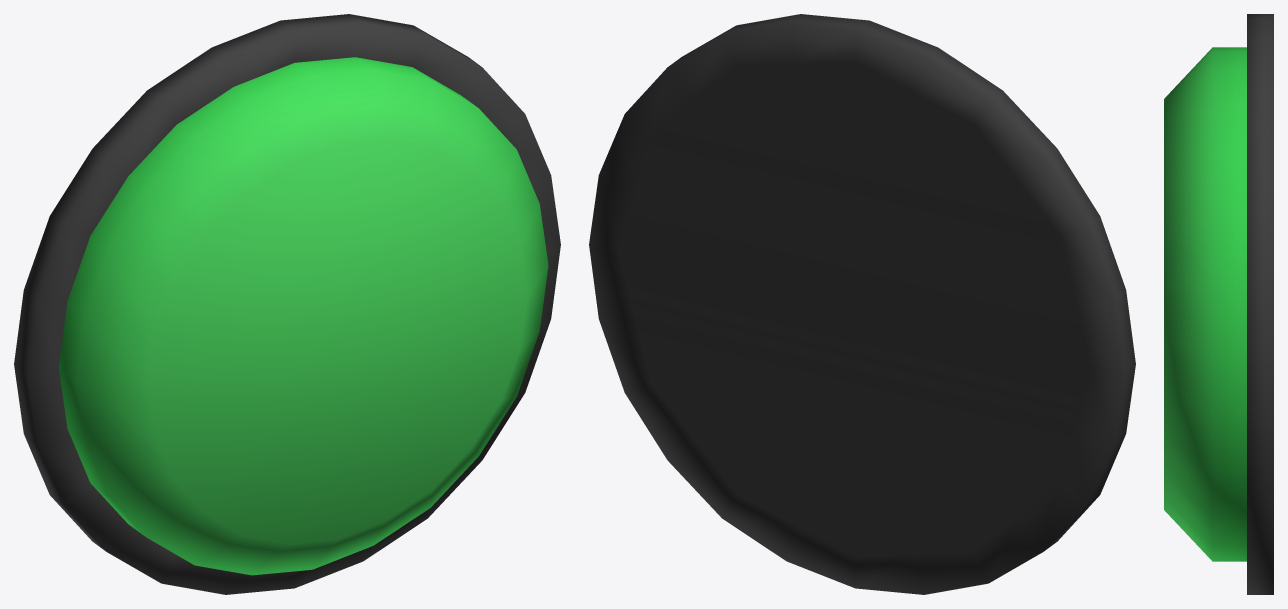
Rendered from ButtonGreen.fbx.
The picture shows the model from 3 angles, left to right: view 1: azimuth 30°, elevation 25°; view 2: azimuth 150°, elevation 25°; view 3: azimuth 270°, elevation 25°; orthographic projection. The views are drawn at different scales.
Parts seen in each view (by area): view 1: Cube; view 2: Cube; view 3: Cube.
Part boxes in pixels (left/top/right/bottom): Cube: left=14, top=14, right=560, bottom=594; Cube: left=589, top=14, right=1135, bottom=594; Cube: left=1164, top=14, right=1273, bottom=594.
Size of the model in its own units: 127 by 127 by 23.95.
